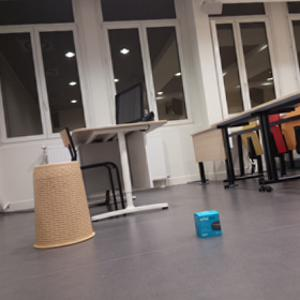medium: (32, 162, 94, 245)
small: (194, 209, 223, 239)
